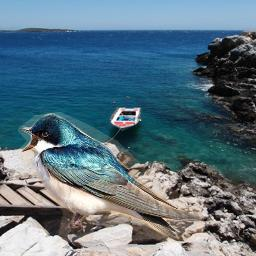Swallow: (18, 112, 204, 243)
